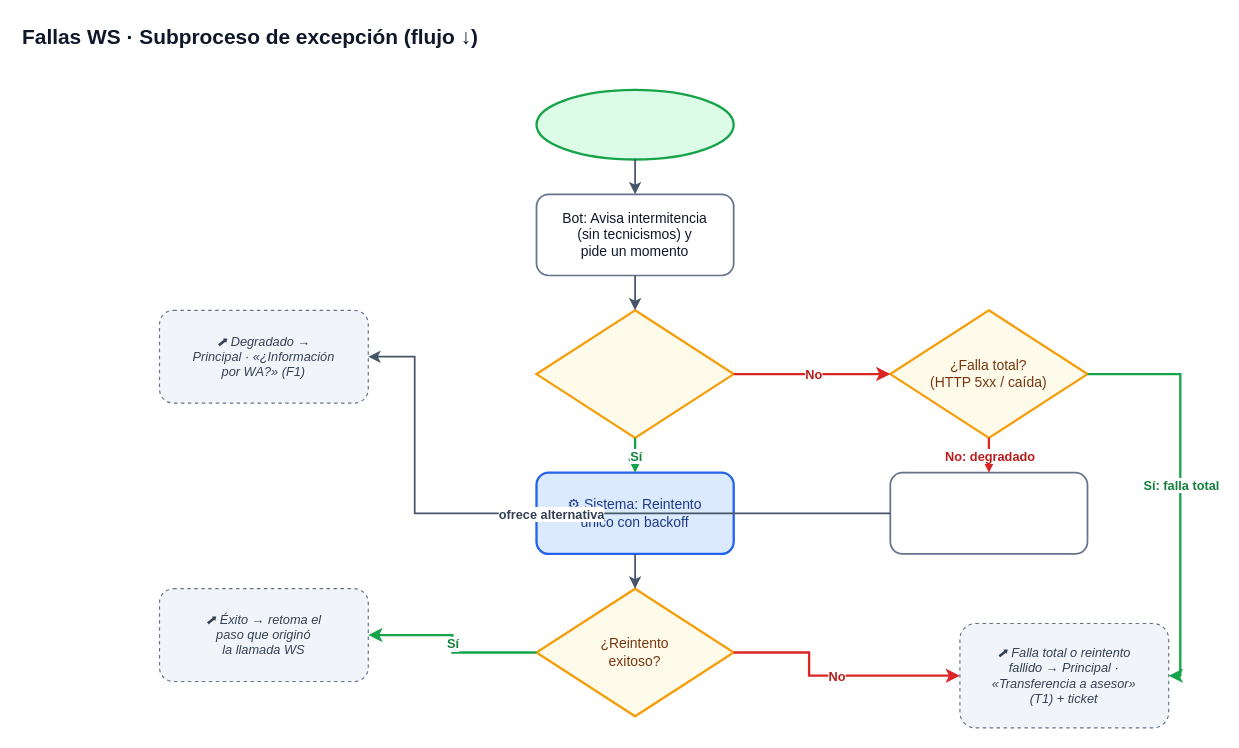
This 1239x748 diagram has some shape labels left out. Here are the shapes that lost their labels. From the top down, the centre of each, then its label:
point 634,124: ⛔ INICIO SUBPROCESO Fallas WS (viene de cualquier «🖥 WS»)
point 634,373: ¿Es timeout? (sin respuesta < 8 s)
point 988,512: Bot: Ofrece seguir por WA o más tarde
